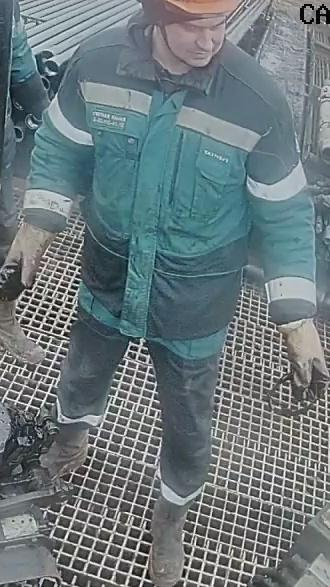gloves: (0, 220, 56, 301), (276, 317, 329, 401)
helmet: (161, 0, 244, 30)
vest: (72, 42, 272, 341)
